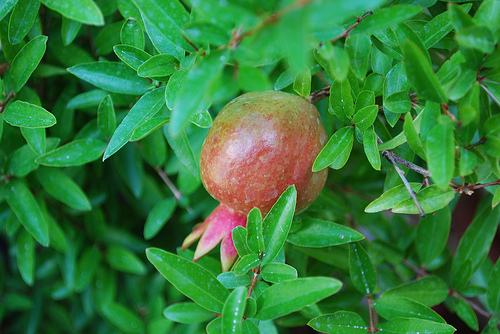pomogranate: (182, 90, 329, 275)
